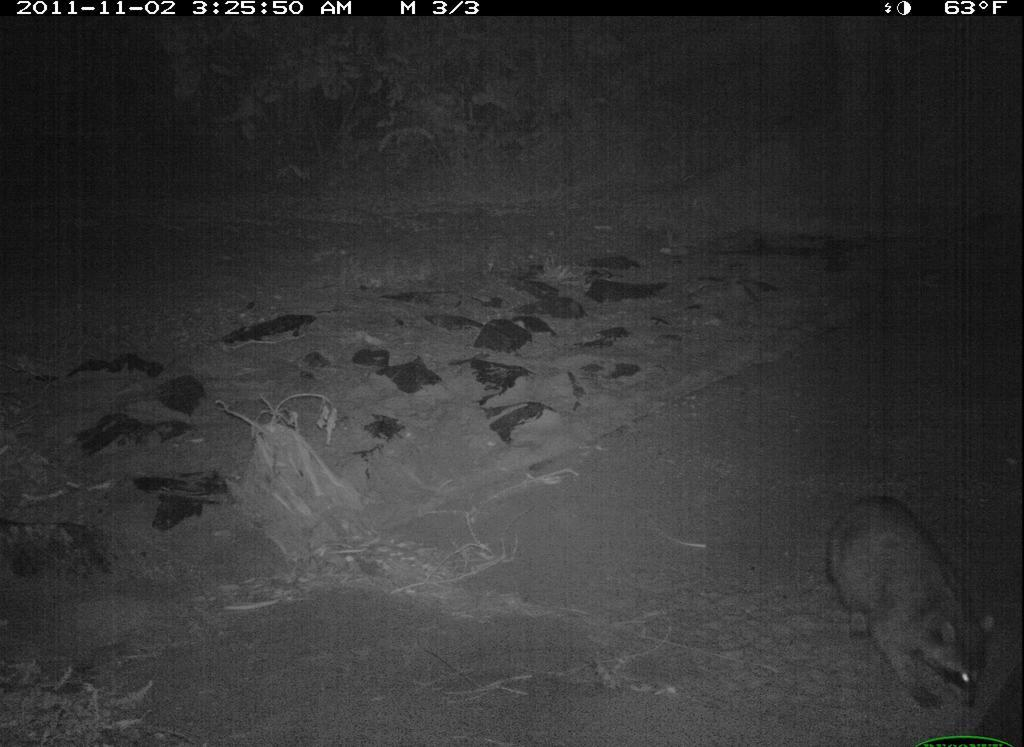raccoon: (812, 491, 1001, 714)
